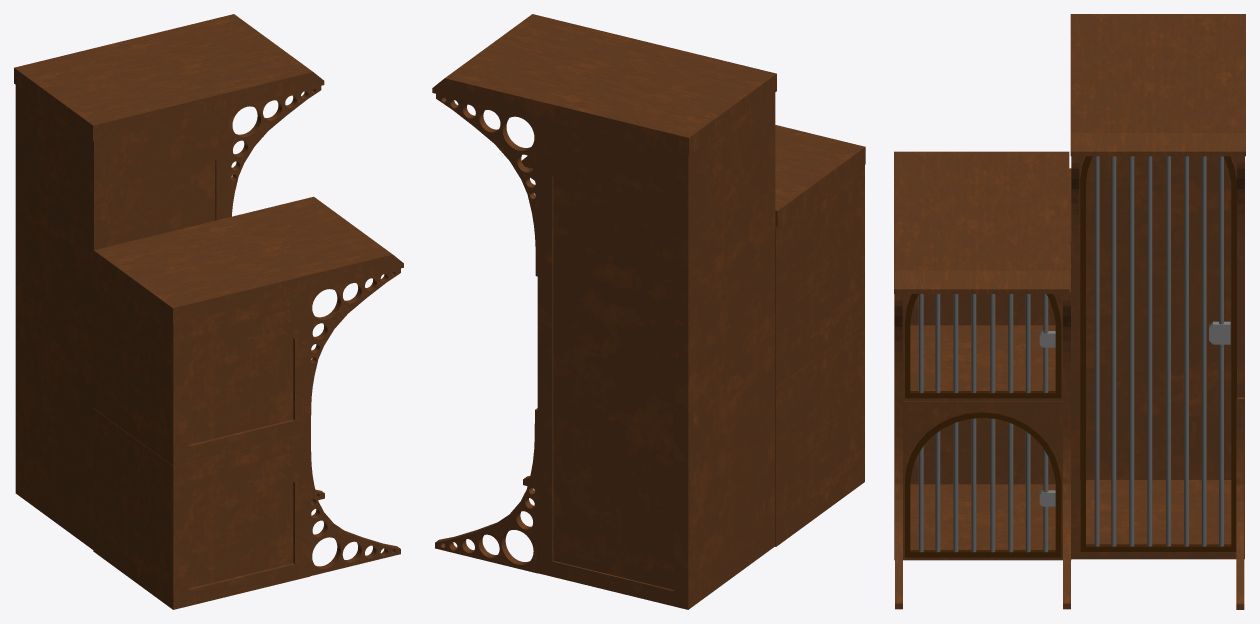
The model's file is 2 small cages 1 long cage.glb.
3 renders of one model, left to right at view 1: azimuth 30°, elevation 25°; view 2: azimuth 150°, elevation 25°; view 3: azimuth 270°, elevation 25°, orthographic. The views are drawn at different scales.
Visible parts, largest first — view 1: Cube.109, Cube.110, Cube.113, Cube.124, Cube.121, Cube.119, Cube.127, Cube.122; view 2: Cube.109, Cube.121, Cube.110, Cube.113, Cube.124, Cube.126, Cube.120; view 3: Cube.109, Cube.121, Cube.124, Cube.110, Cube.113, Cube.108, Cube.112, Cube.115, Cylinder.178, Cylinder.181, Cylinder.182, Cylinder.183 (+28 smaller).
Boxes of the visible parts, box(x1,y1,x2,y2) form: Cube.109: box(15, 85, 228, 549); Cube.110: box(93, 408, 310, 609); Cube.113: box(93, 264, 310, 466); Cube.124: box(93, 196, 403, 323); Cube.121: box(14, 14, 324, 141); Cube.119: box(228, 86, 321, 217); Cube.127: box(310, 432, 400, 575); Cube.122: box(310, 268, 400, 432); Cube.109: box(537, 93, 775, 609); Cube.121: box(432, 14, 776, 155); Cube.110: box(775, 323, 864, 546); Cube.113: box(775, 165, 864, 387); Cube.124: box(521, 125, 865, 228); Cube.126: box(435, 408, 537, 573); Cube.120: box(436, 94, 538, 276); Cube.109: box(1071, 156, 1244, 559); Cube.121: box(1070, 14, 1245, 156); Cube.124: box(894, 151, 1069, 293); Cube.110: box(894, 401, 1071, 560); Cube.113: box(894, 168, 1071, 401); Cube.108: box(1080, 156, 1236, 551); Cube.112: box(905, 411, 1061, 557); Cube.115: box(905, 294, 1061, 398); Cylinder.178: box(1201, 156, 1206, 546); Cylinder.181: box(1147, 156, 1152, 546); Cylinder.182: box(1129, 156, 1134, 546); Cylinder.183: box(1111, 156, 1116, 546).
Bounding box in the file's own units: 10.73 × 18.91 × 12.78.
4 materials, 4 textured.
